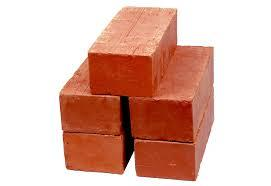Bricks: (88, 7, 177, 97), (129, 48, 213, 143), (135, 96, 215, 182), (59, 59, 122, 136), (62, 133, 126, 174)
